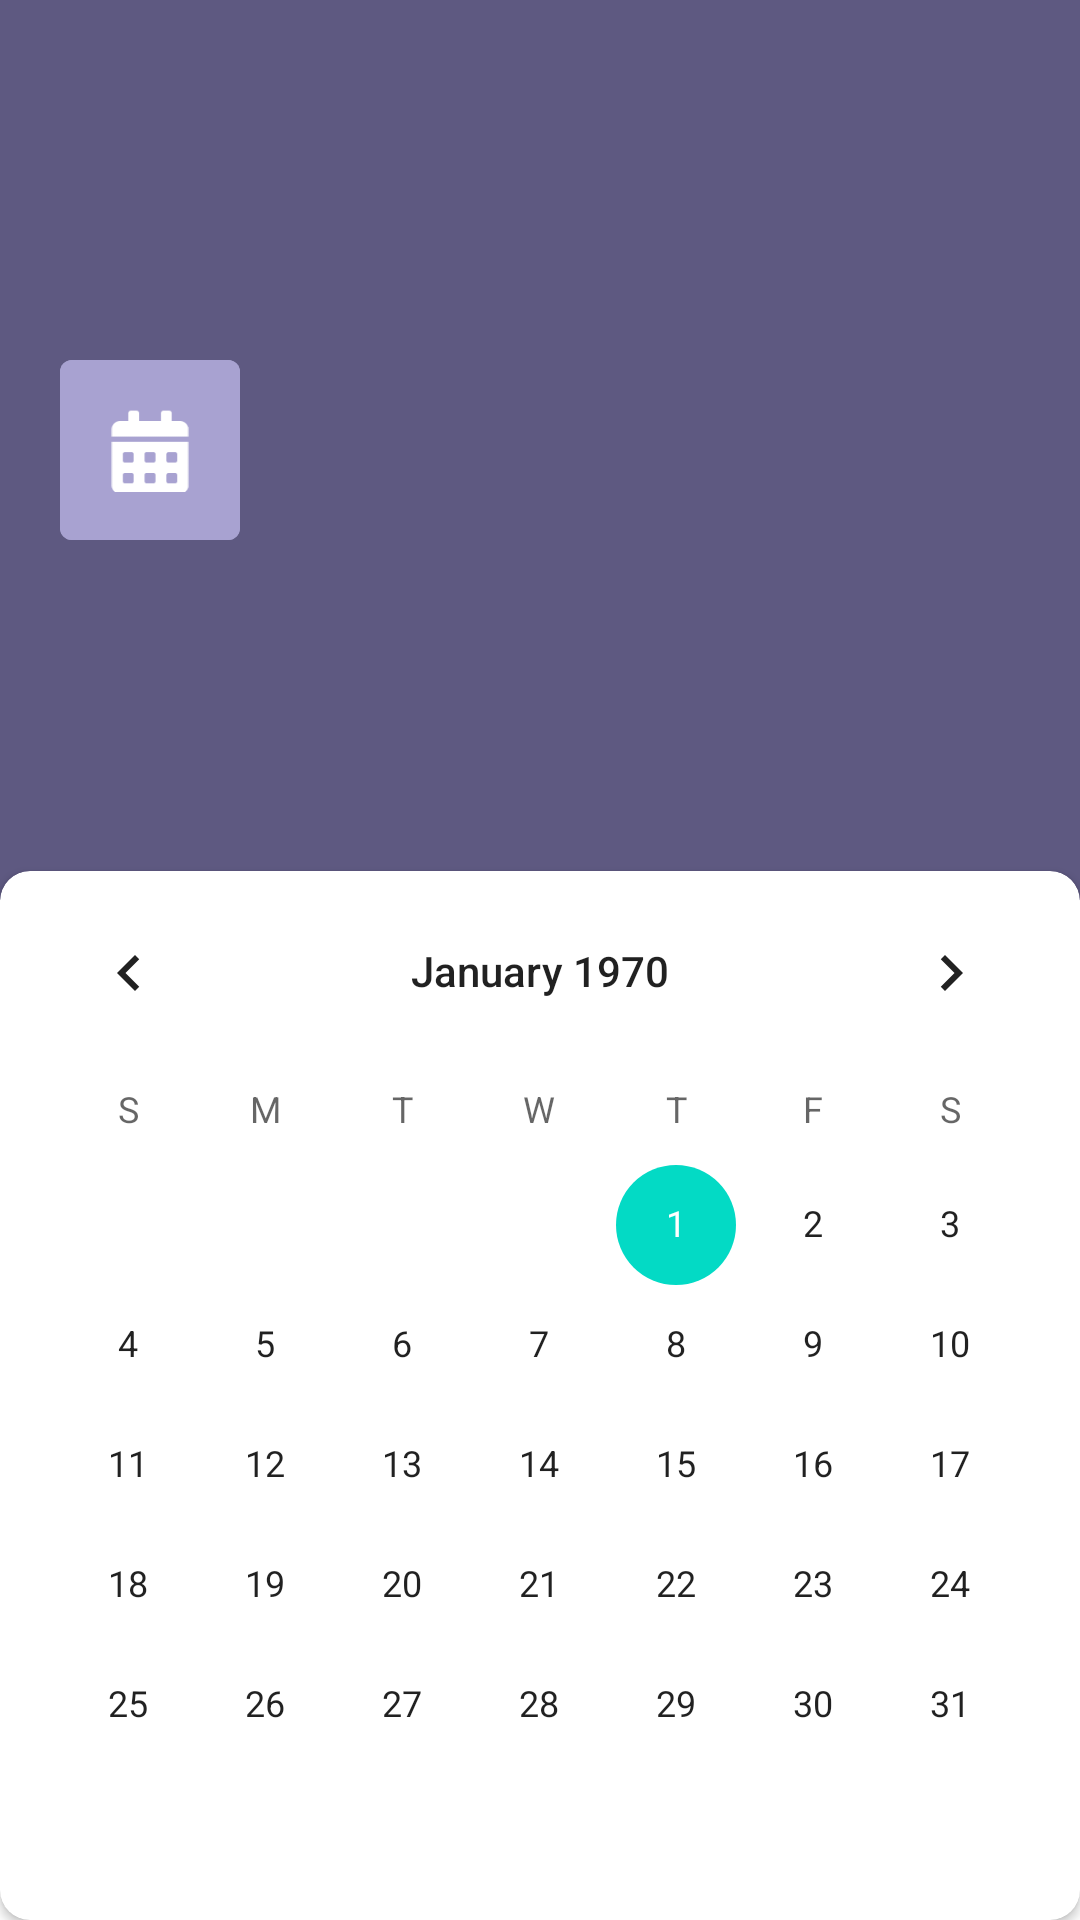

Icons on this 1080px x 1920px Android screen, each with its box as bbox(x1, y1, x2, y2):
calendar: bbox(60, 360, 240, 540)
